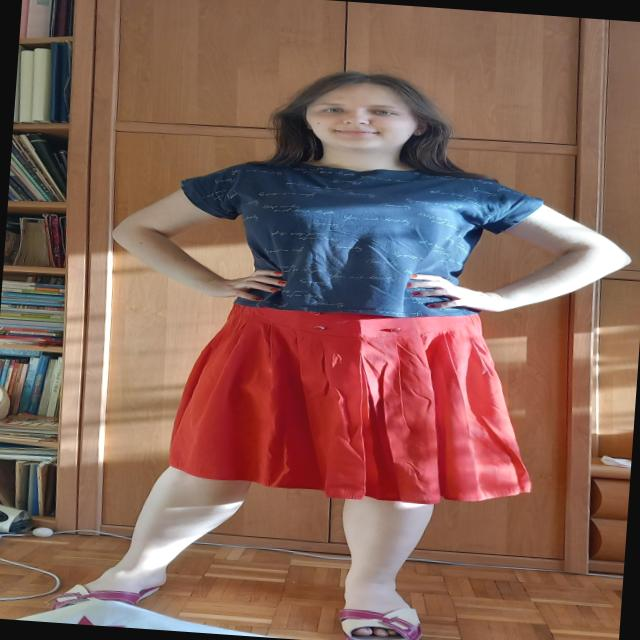Tshirt: (170, 153, 546, 327)
skirt: (166, 292, 544, 510)
